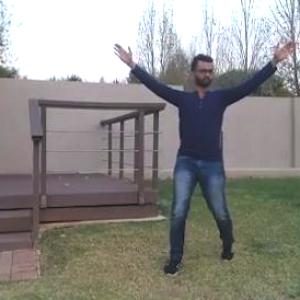takeoff: (102, 31, 299, 279)
